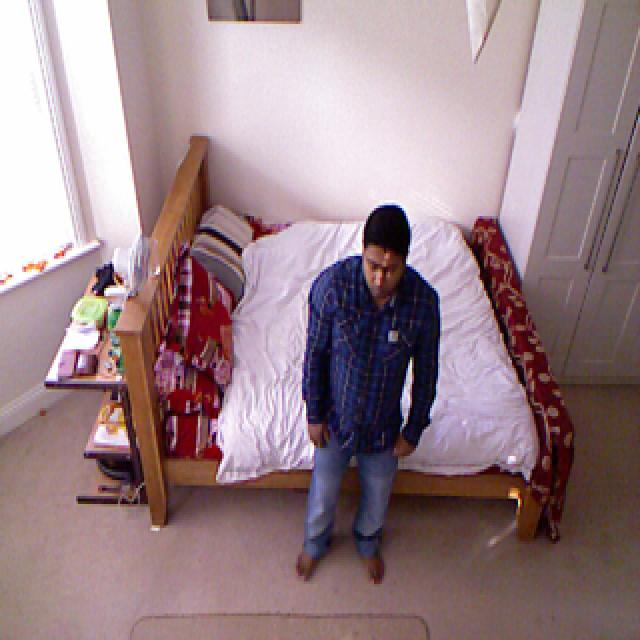standing: (304, 196, 444, 590)
